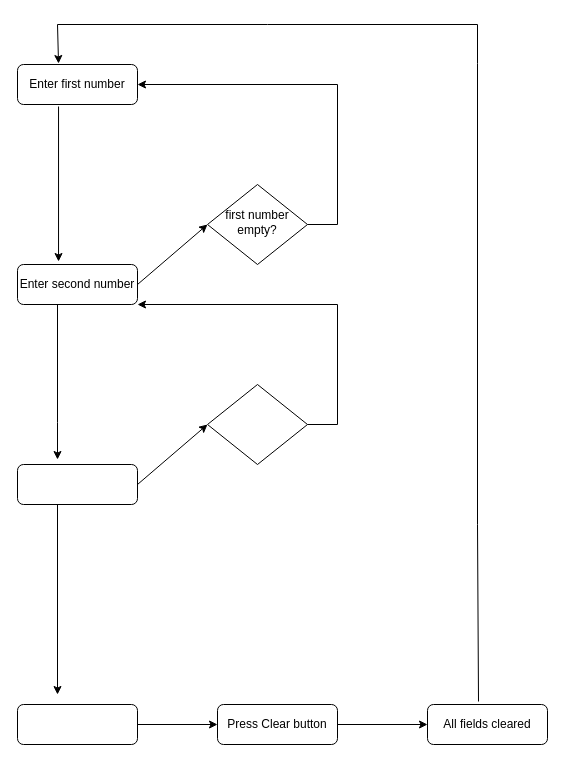
This 565x762 diagram has some shape labels left out. Each missing label, with the centre of its shape:
Choose operator: (77,484)
Result appear: (77,724)
second number empty?: (257,424)
